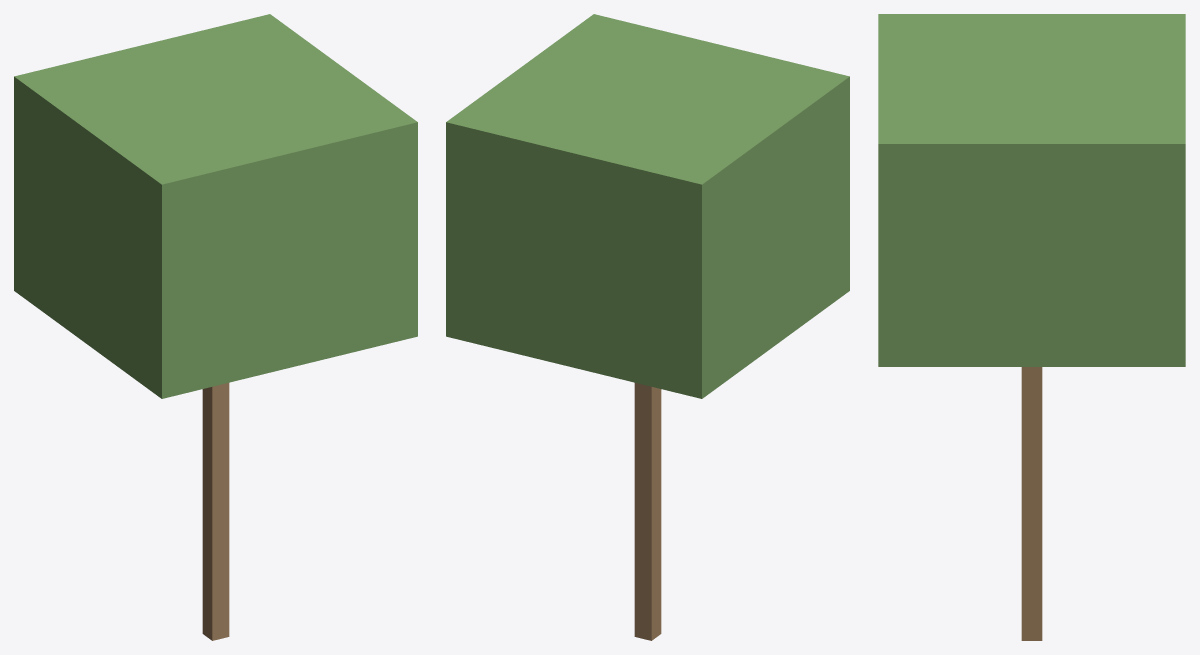
Rendered from Prop_DS_Tree_28.glb.
3 views of the same model, side by side, from view 1: azimuth 30°, elevation 25°; view 2: azimuth 150°, elevation 25°; view 3: azimuth 270°, elevation 25° (orthographic). The views are drawn at different scales.
Visible parts, largest first — view 1: Cube.001, Cube; view 2: Cube.001, Cube; view 3: Cube.001, Cube.
Part boxes in pixels (x1,y1,x2,y2): Cube.001: (14, 14, 417, 398); Cube: (202, 382, 229, 640); Cube.001: (446, 14, 849, 398); Cube: (634, 382, 661, 640); Cube.001: (878, 14, 1185, 366); Cube: (1021, 367, 1042, 640).
Size of the model in its own units: 4.5 by 9 by 4.5.
